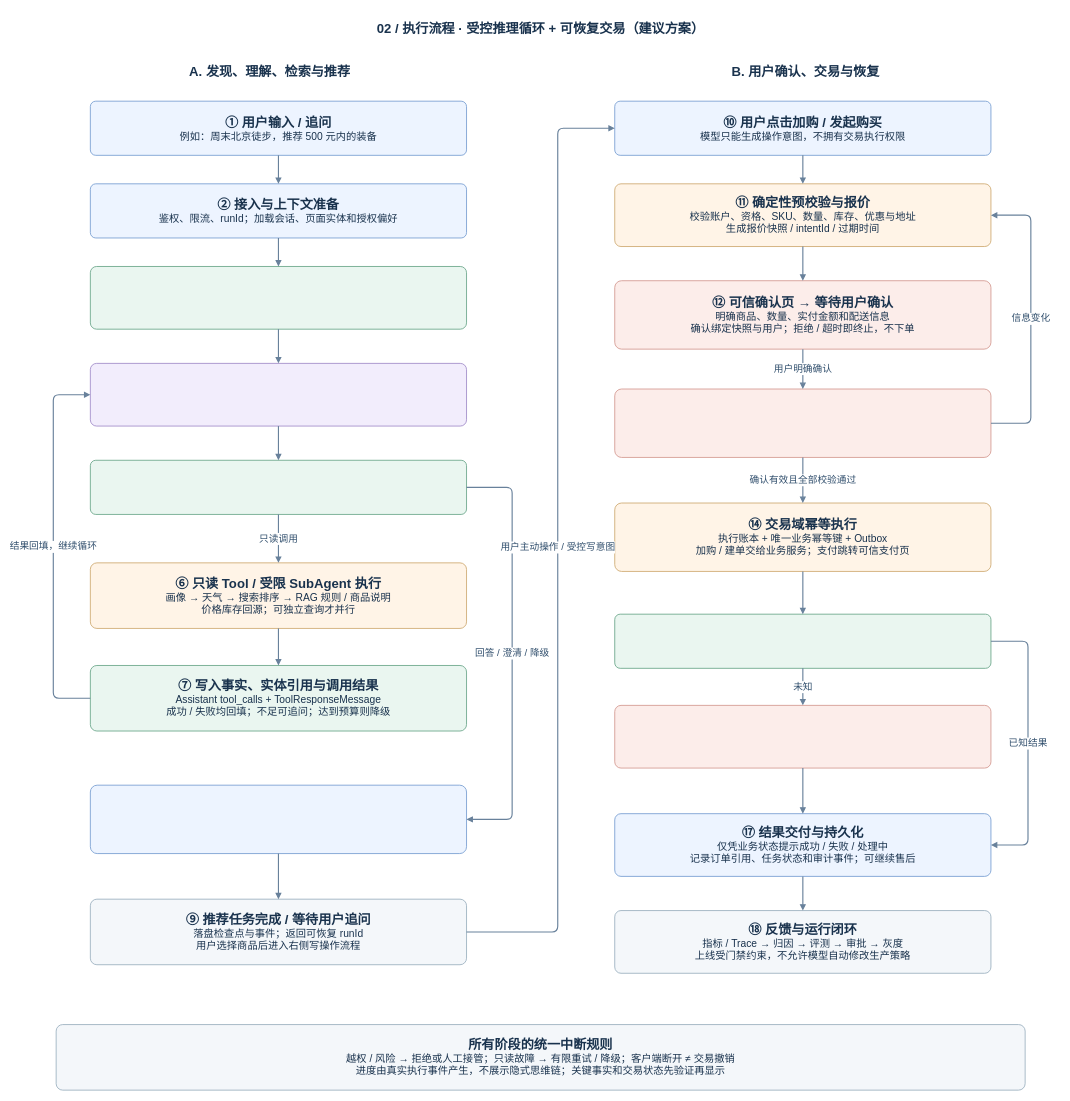
This 1070x1101 diagram has some shape labels left out. The shapes that lost their labels are listed below. From the top down, each one's centre as x and y in pixels, then its label:
At pixel 278 297: "③ 选择 Skill 并装配 Prompt Base + Business + 请求快照 + Messages SOP 按需加载；工具白名单由服务端限定".
At pixel 278 394: "④ LLM 流式推理 模型提议：澄清 / 只读调用 / 写意图 / 回答 Runtime 控制轮次、deadline 和 token 预算".
At pixel 802 423: "⑬ 恢复任务并再次校验 核验确认凭证、账户、有效期、最新报价和风控 任一重要字段变化：旧确认作废，重新报价确认".
At pixel 278 487: "⑤ Runtime 路由与校验 解析完整 tool_calls；校验 schema、身份、权限和依赖".
At pixel 802 640: "⑮ 判断权威业务结果 成功 / 明确失败 / 未知（超时不代表失败）".
At pixel 802 736: "⑯ 未知结果 → 查单 / 对账 按幂等键查状态，有限退避；仍未知转人工跟进 不创建新幂等键盲重试、不提示已经成功".
At pixel 278 819: "⑧ Reply 校验并流式交付 安全文本逐段输出；卡片引用权威实体 证据不足明确说明；绝不宣称未完成的交易成功".
